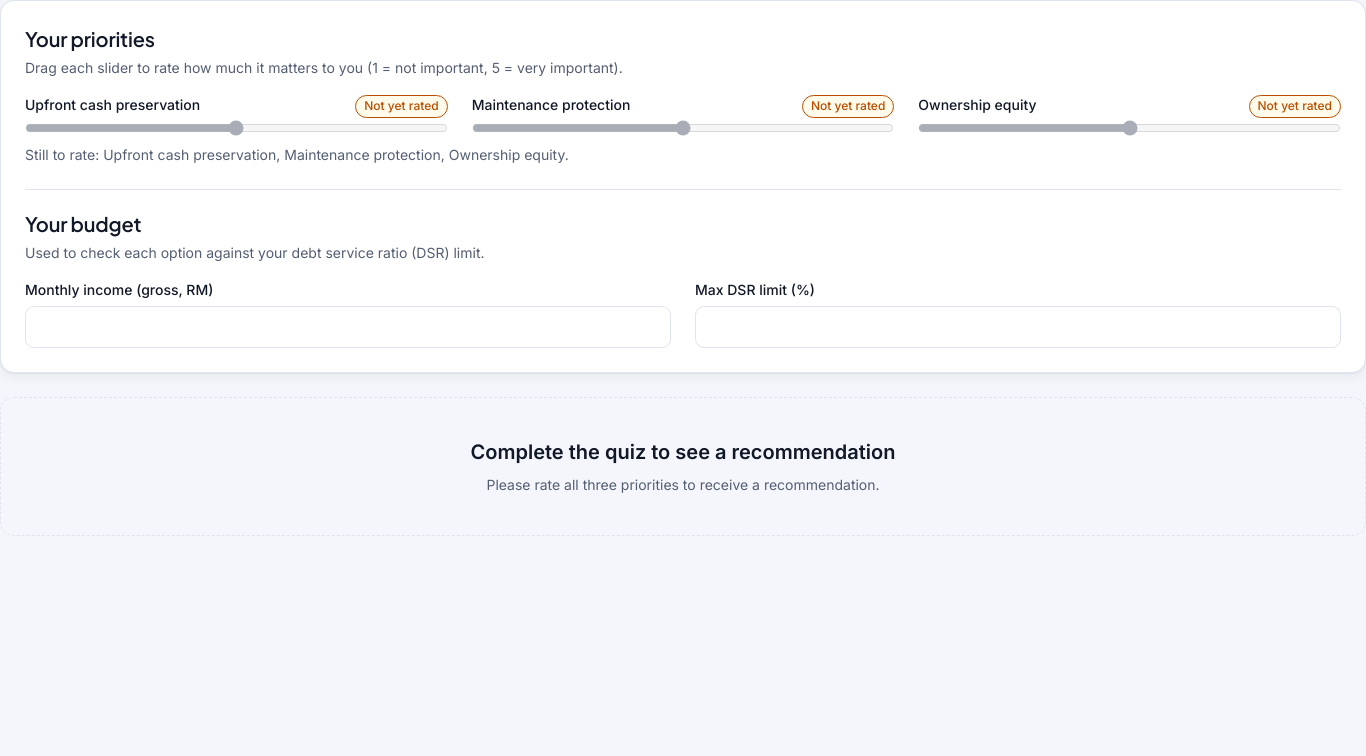
Scenario: RecommendationPanel › sends exactly the ratings it displays
Set the slider labelled "Upfront cash preservation" to "5": coordinates (440, 128) [25, 124, 448, 132]
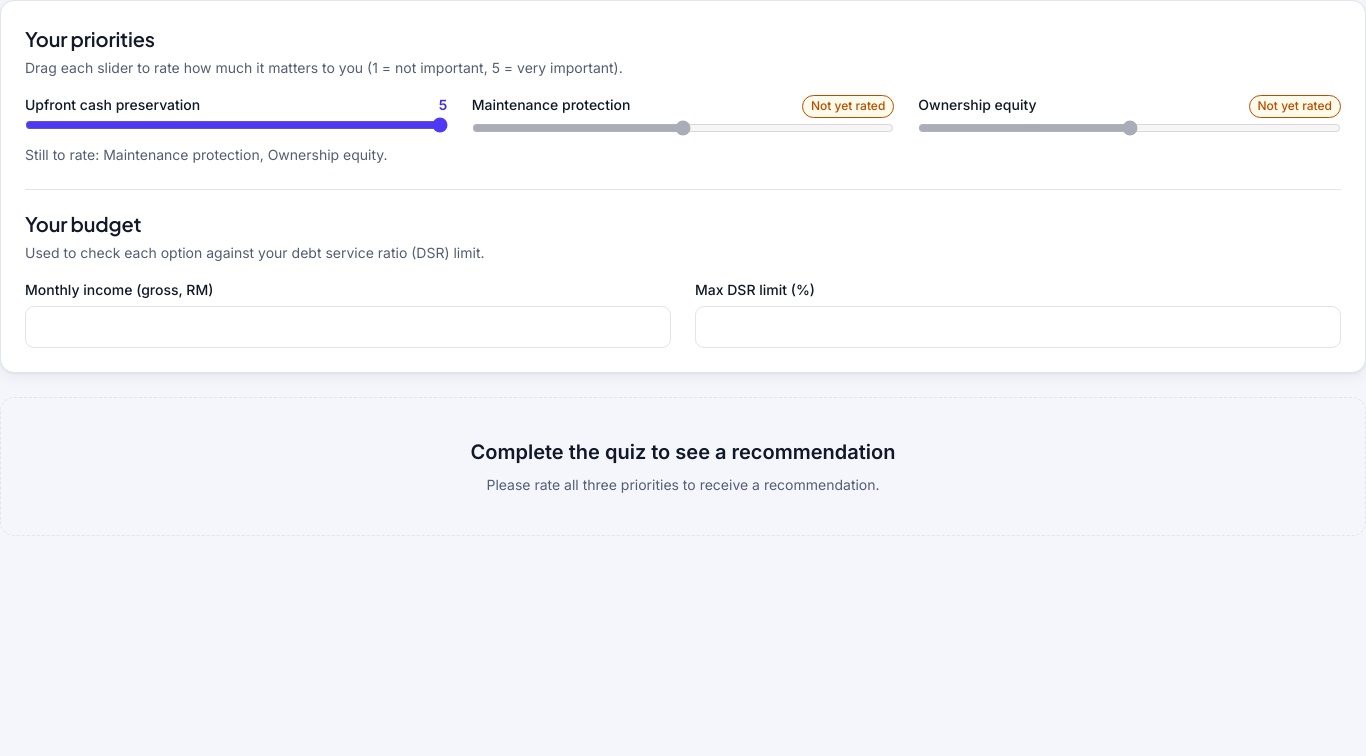
Set the slider labelled "Maintenance protection" to "2": coordinates (581, 128) [472, 124, 894, 132]
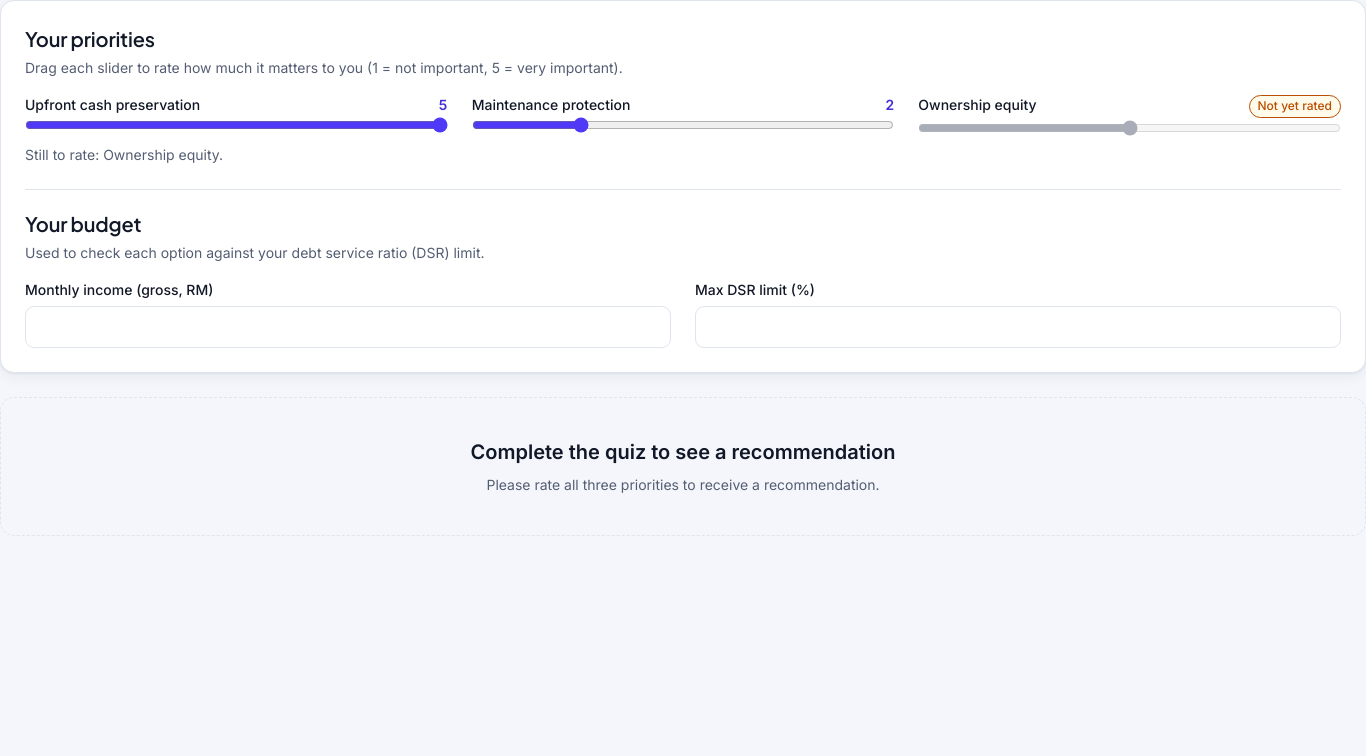
Set the slider labelled "Ownership equity" to "4": coordinates (1231, 128) [918, 124, 1341, 132]
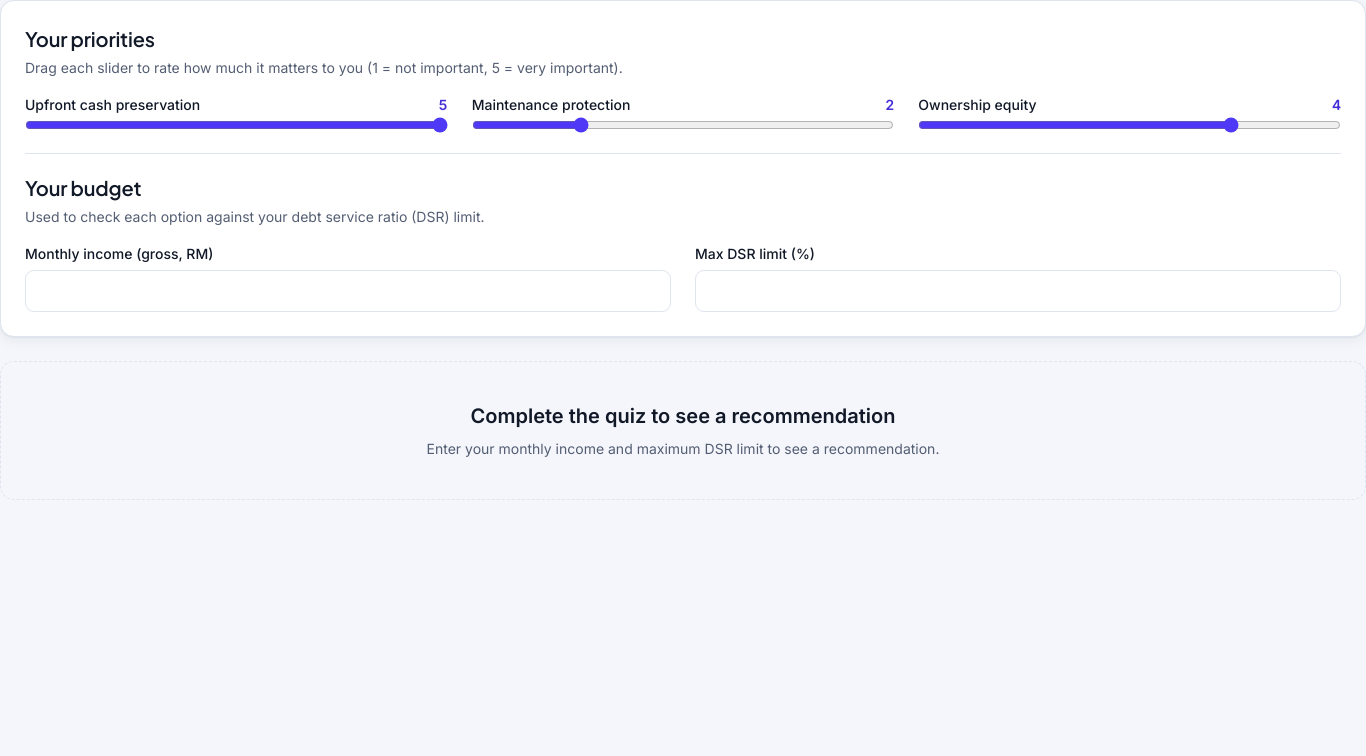
In the number field labelled "Monthly income (gross, RM)": coordinates (348, 291) [25, 270, 671, 312], type "8000"
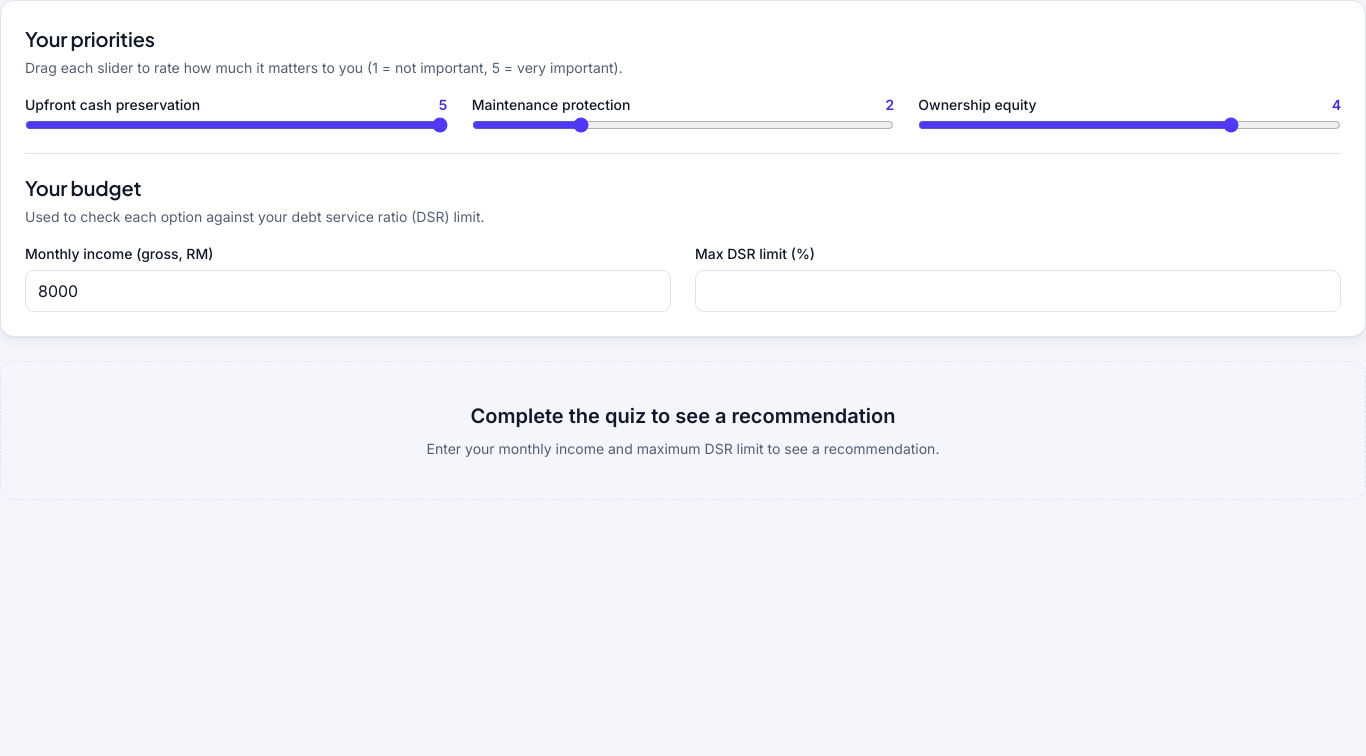
In the number field labelled "Max DSR limit (%)": coordinates (1018, 291) [695, 270, 1341, 312], type "60"
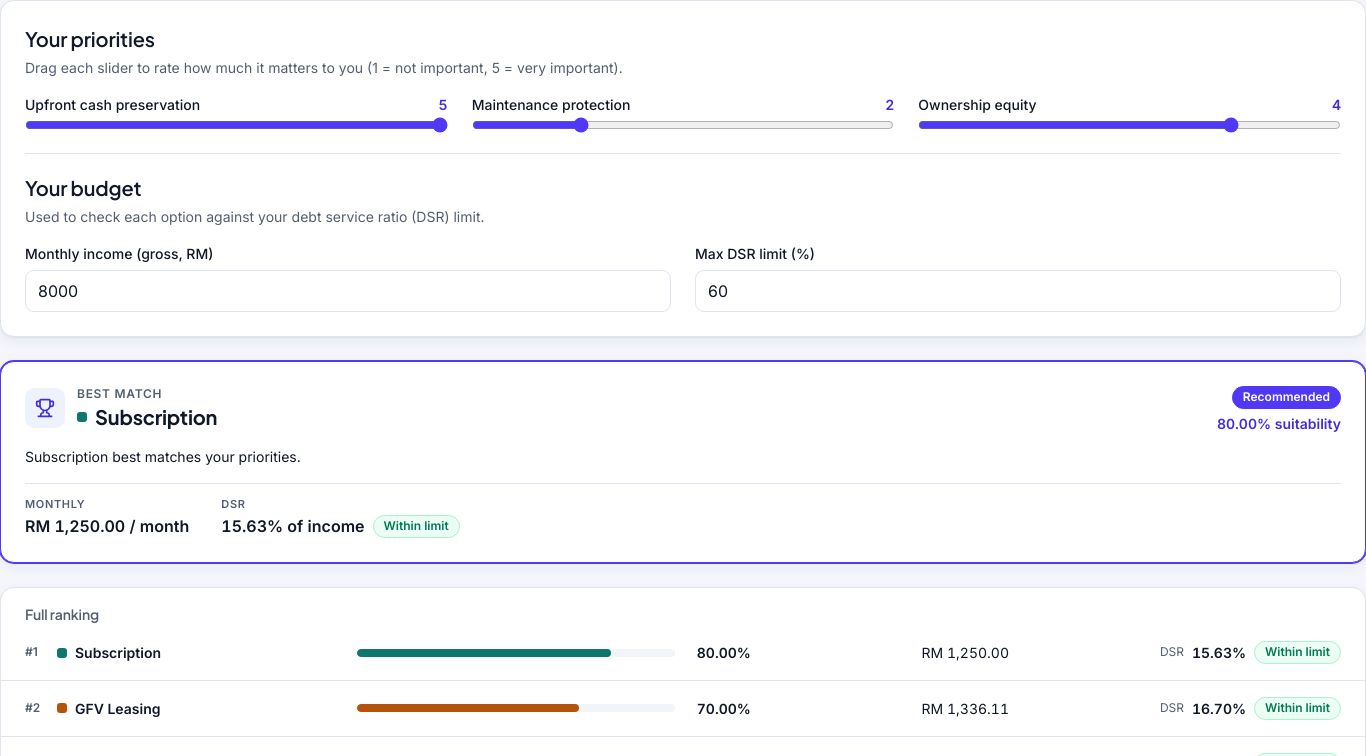
Expected: the text "5" is shown, [439, 94, 448, 115]
Expected: the text "4" is shown, [1332, 94, 1341, 115]
Expected: the text "Subscription best matches your priorities." is shown, [25, 448, 301, 465]
